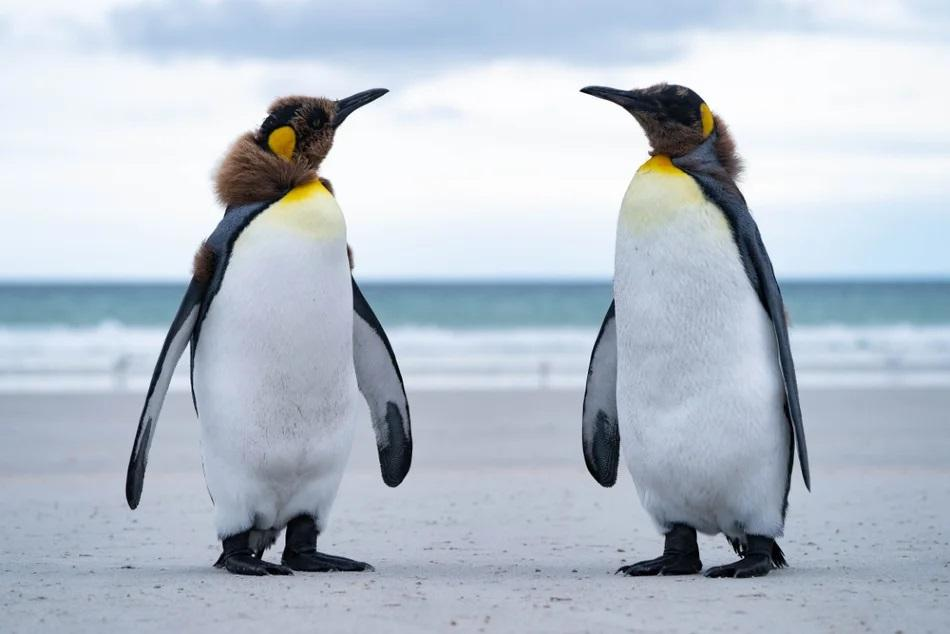king: (72, 61, 445, 568), (557, 54, 852, 578)
